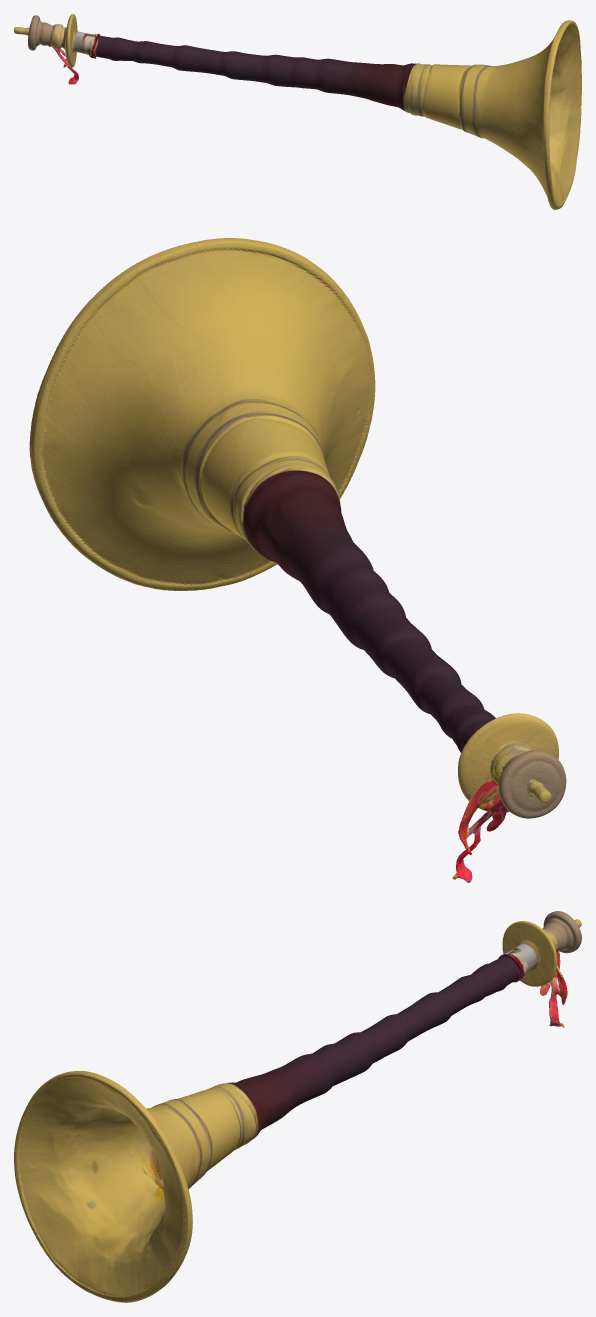
Rendered from chaozhou_suona.glb.
The picture shows the model from 3 angles, top to bottom: view 1: azimuth 30°, elevation 25°; view 2: azimuth 150°, elevation 25°; view 3: azimuth 270°, elevation 25°; orthographic projection. The views are drawn at different scales.
Visible parts, largest first — view 1: tripo_node_4d77df36-779e-435a-8f53-951206a5c519; view 2: tripo_node_4d77df36-779e-435a-8f53-951206a5c519; view 3: tripo_node_4d77df36-779e-435a-8f53-951206a5c519.
Boxes of the visible parts, <box> form: tripo_node_4d77df36-779e-435a-8f53-951206a5c519: <box>14,14,581,209</box>; tripo_node_4d77df36-779e-435a-8f53-951206a5c519: <box>29,238,566,882</box>; tripo_node_4d77df36-779e-435a-8f53-951206a5c519: <box>14,911,581,1302</box>.
Bounding box in the file's own units: 106 × 42.78 × 100.
Materials: 1 (1 with a texture image).
